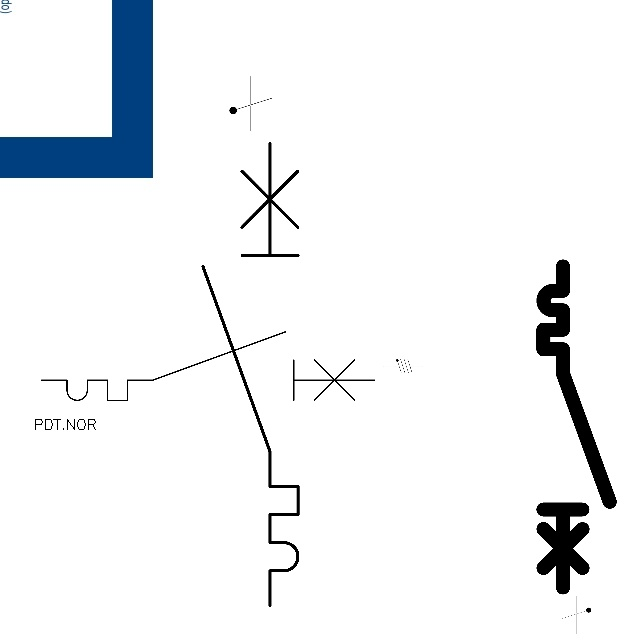interruptor_termomagnetico: (191, 131, 310, 618), (33, 323, 383, 409), (535, 258, 617, 596)
